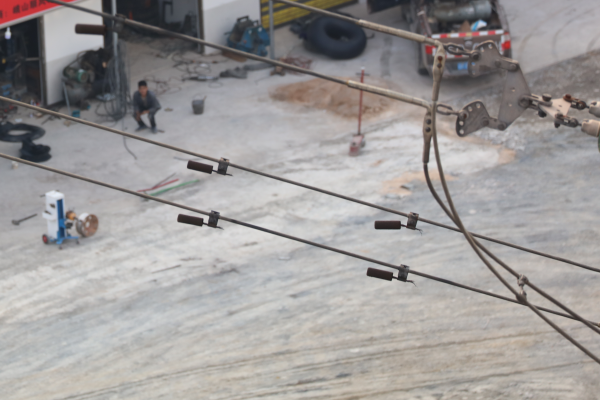damper_defect: (71, 11, 137, 37), (174, 206, 228, 232), (372, 209, 425, 235), (364, 261, 416, 287), (182, 155, 235, 178)
